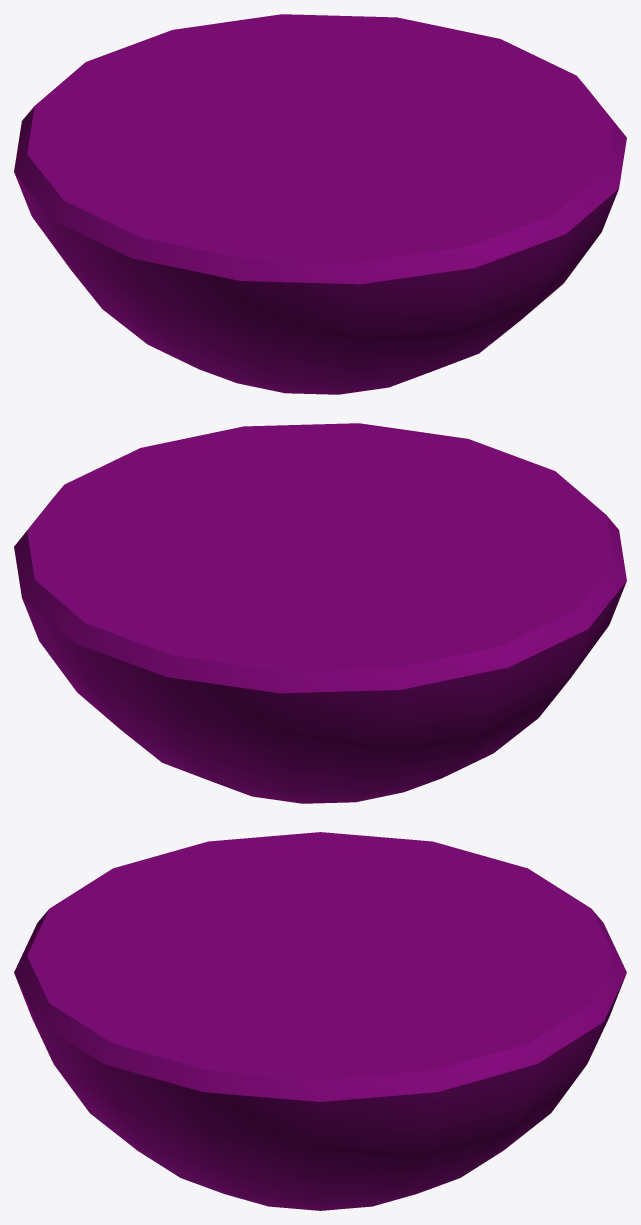
The model's file is Leg_06.fbx.
3 views of the same model, one above another, from view 1: azimuth 30°, elevation 25°; view 2: azimuth 150°, elevation 25°; view 3: azimuth 270°, elevation 25° (orthographic).
Parts seen in each view (by area): view 1: Leg_06; view 2: Leg_06; view 3: Leg_06.
Part boxes in pixels (left/top/right/bottom): Leg_06: left=14, top=14, right=626, bottom=394; Leg_06: left=14, top=423, right=626, bottom=803; Leg_06: left=14, top=832, right=626, bottom=1210.
Size of the model in its own units: 95.42 by 38.87 by 95.42.
